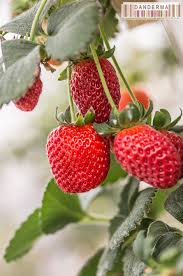ripe: (39, 116, 116, 197), (110, 124, 183, 195), (67, 56, 124, 124), (9, 65, 48, 118)
